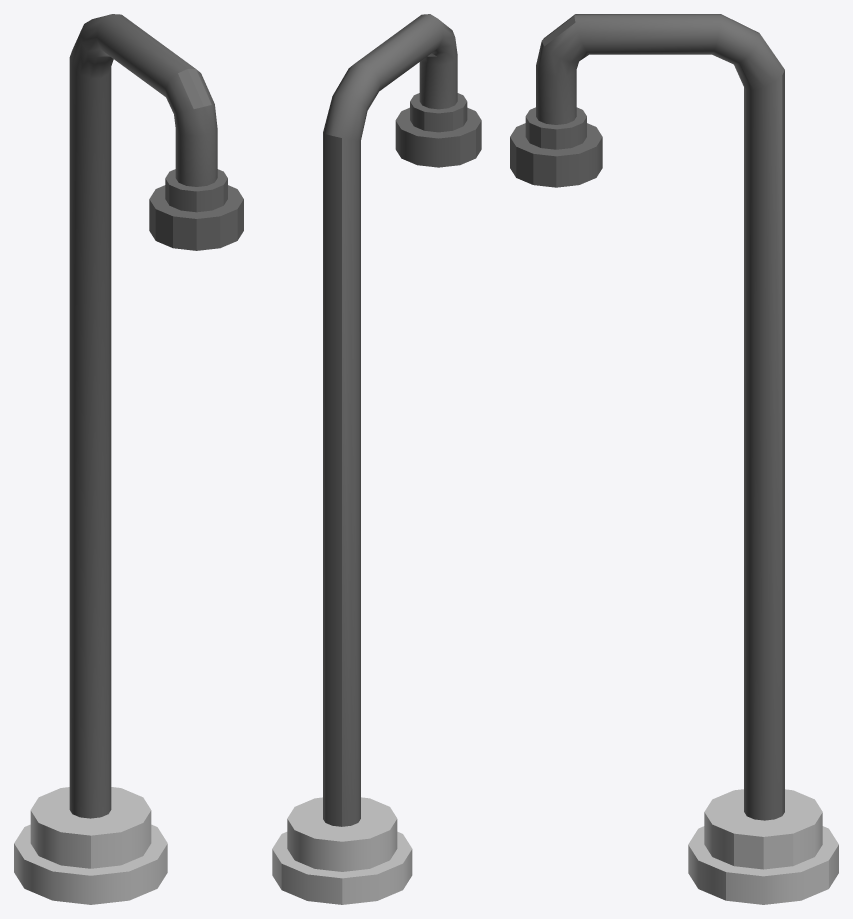
Rendered from lamp.FBX.
The picture shows the model from 3 angles, left to right: view 1: azimuth 30°, elevation 25°; view 2: azimuth 150°, elevation 25°; view 3: azimuth 270°, elevation 25°; orthographic projection. The views are drawn at different scales.
Parts seen in each view (by area): view 1: Line001, Cylinder001; view 2: Line001, Cylinder001; view 3: Line001, Cylinder001.
Part boxes in pixels (<box>): Line001: <box>69,14,243,818</box>; Cylinder001: <box>14,787,167,904</box>; Line001: <box>323,14,481,826</box>; Cylinder001: <box>272,797,412,904</box>; Line001: <box>510,14,784,820</box>; Cylinder001: <box>688,789,838,904</box>.
Bounding box in the file's own units: 32.18 × 202 × 70.23.
